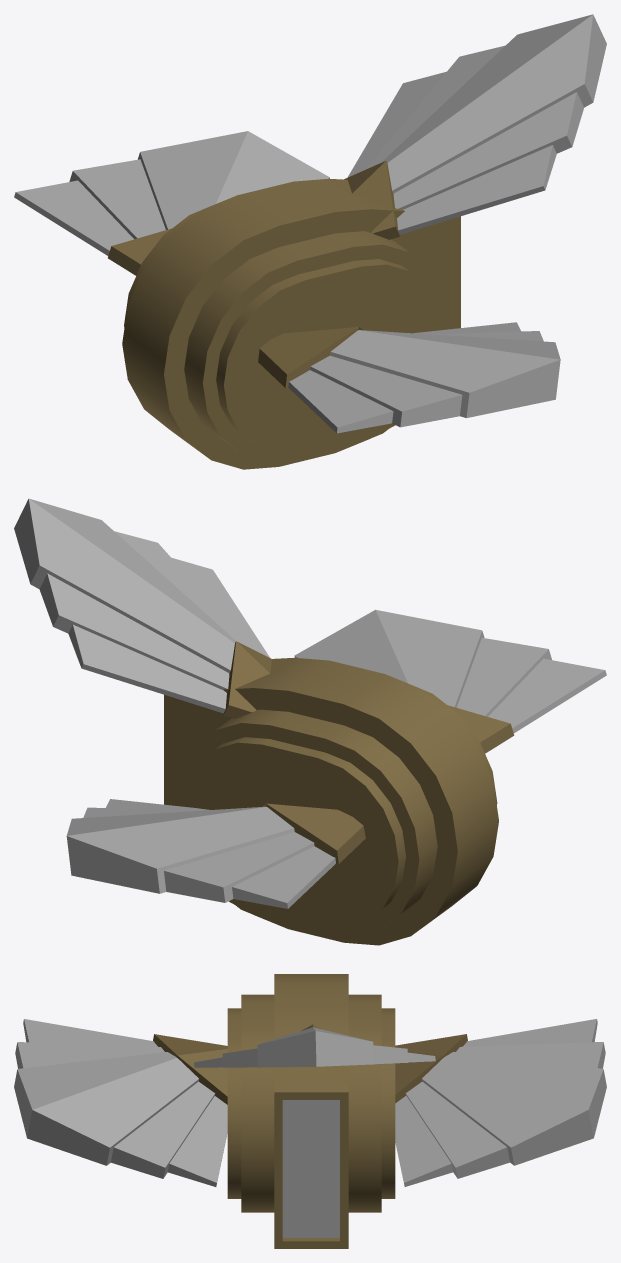
Rendered from CH_Ship_Peacock_Test.fbx.
3 renders of one model, top to bottom at view 1: azimuth 30°, elevation 25°; view 2: azimuth 150°, elevation 25°; view 3: azimuth 270°, elevation 25°, orthographic. The views are drawn at different scales.
Parts seen in each view (by area): view 1: CH_Ship_Peacock_Test; view 2: CH_Ship_Peacock_Test; view 3: CH_Ship_Peacock_Test.
Boxes of the visible parts, left/top/right/bottom form: CH_Ship_Peacock_Test: left=14, top=14, right=606, bottom=469; CH_Ship_Peacock_Test: left=14, top=498, right=606, bottom=945; CH_Ship_Peacock_Test: left=14, top=974, right=606, bottom=1248.
Size of the model in its own units: 135 by 97.84 by 167.
